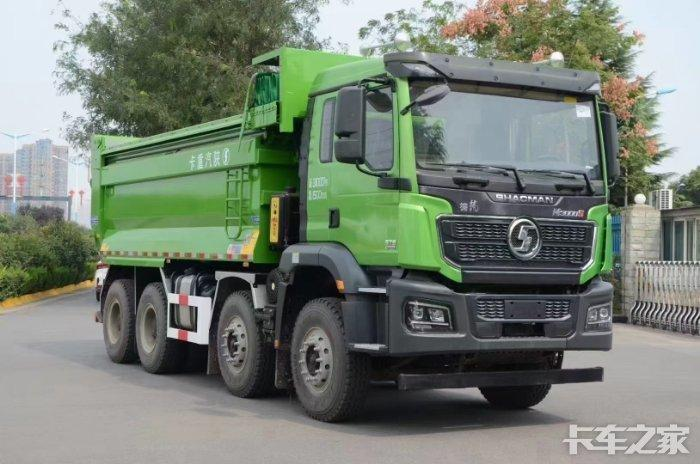truck: (72, 43, 634, 424)
